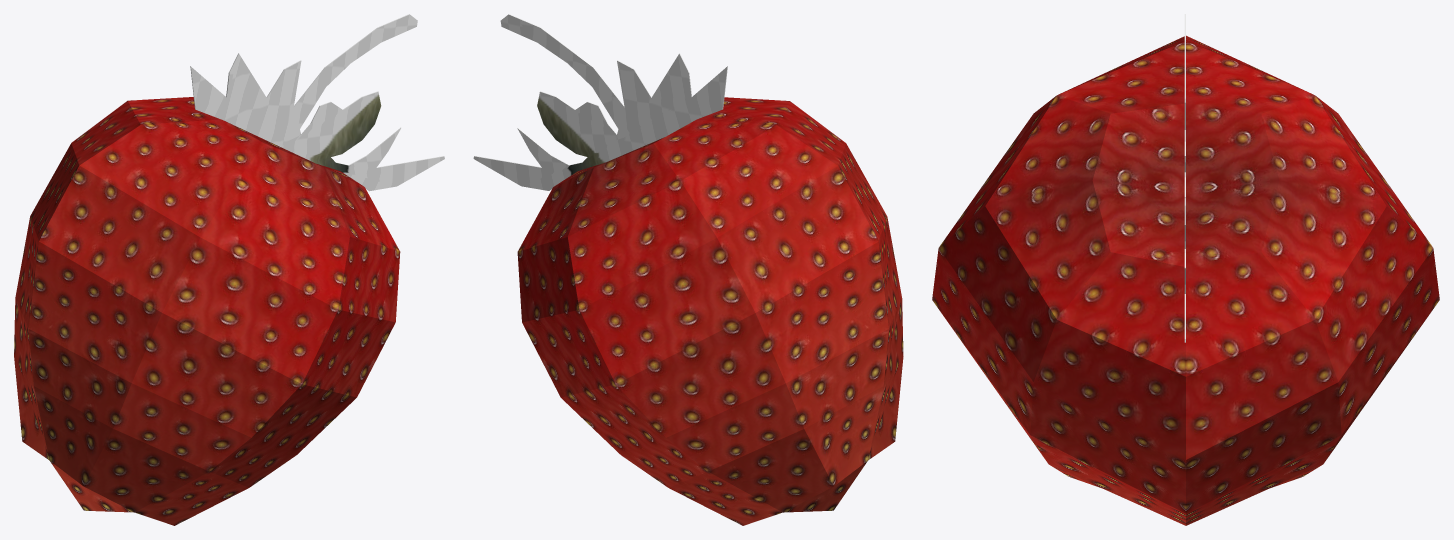
The model's file is Strawberry.fbx.
The picture shows the model from 3 angles, left to right: view 1: azimuth 30°, elevation 25°; view 2: azimuth 150°, elevation 25°; view 3: azimuth 270°, elevation 25°; orthographic projection. The views are drawn at different scales.
Visible parts, largest first — view 1: StrawberryMesh; view 2: StrawberryMesh; view 3: StrawberryMesh.
Boxes of the visible parts, bbox=[...] form: StrawberryMesh: bbox=[14, 14, 444, 525]; StrawberryMesh: bbox=[473, 14, 903, 525]; StrawberryMesh: bbox=[932, 14, 1439, 525].
Bounding box in the file's own units: 407 × 401 × 365.
